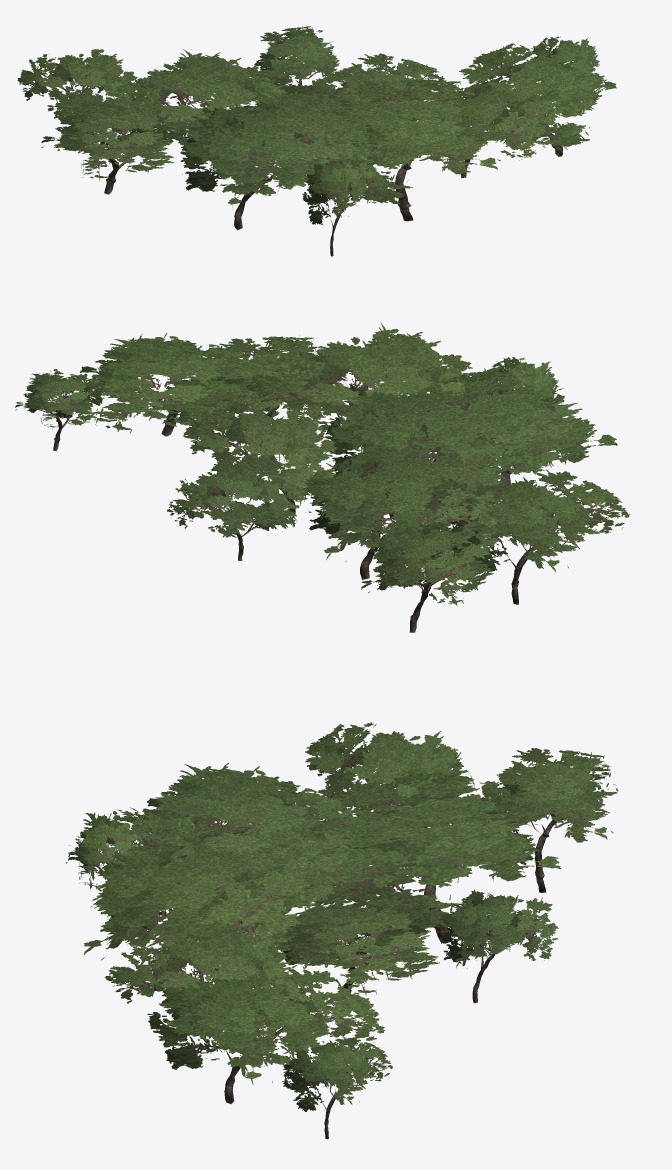
3 views of the same model, one above another, from view 1: azimuth 30°, elevation 25°; view 2: azimuth 150°, elevation 25°; view 3: azimuth 270°, elevation 25° (orthographic). The views are drawn at different scales.
Visible parts, largest first — view 1: Promontory waterfront canopy crowns, Promontory waterfront canopy bark; view 2: Promontory waterfront canopy crowns, Promontory waterfront canopy bark; view 3: Promontory waterfront canopy crowns, Promontory waterfront canopy bark.
Boxes of the visible parts, x1,y1,x2,y2 form: Promontory waterfront canopy crowns: (17,26,616,224); Promontory waterfront canopy bark: (58,57,581,256); Promontory waterfront canopy crowns: (15,322,629,605); Promontory waterfront canopy bark: (38,371,550,632); Promontory waterfront canopy crowns: (66,722,618,1111); Promontory waterfront canopy bark: (96,760,564,1139).
Bounding box in the file's own units: 52.33 × 8.89 × 39.79.
2 materials, 2 textured.
